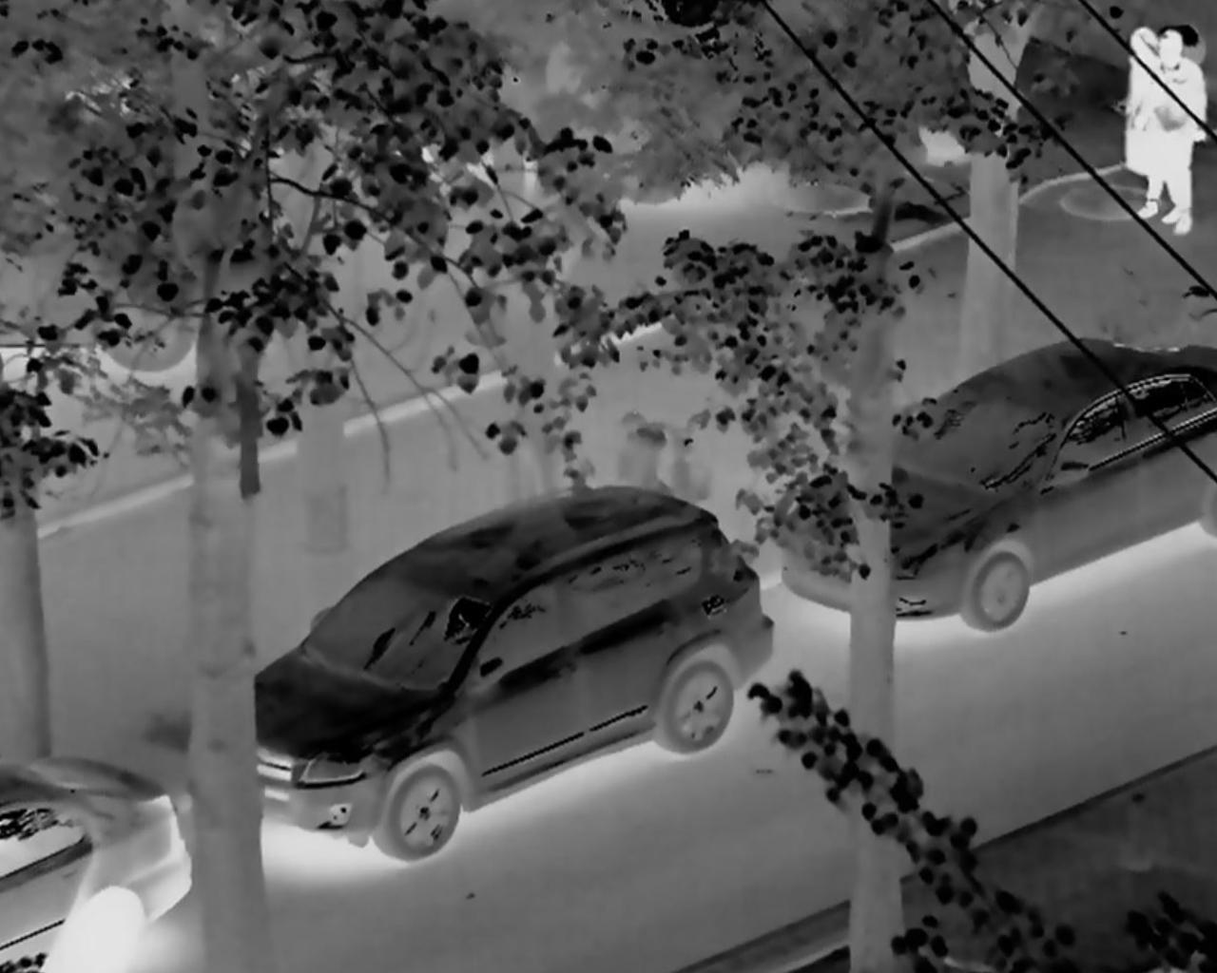person: (1097, 19, 1171, 238), (1149, 26, 1213, 238)
